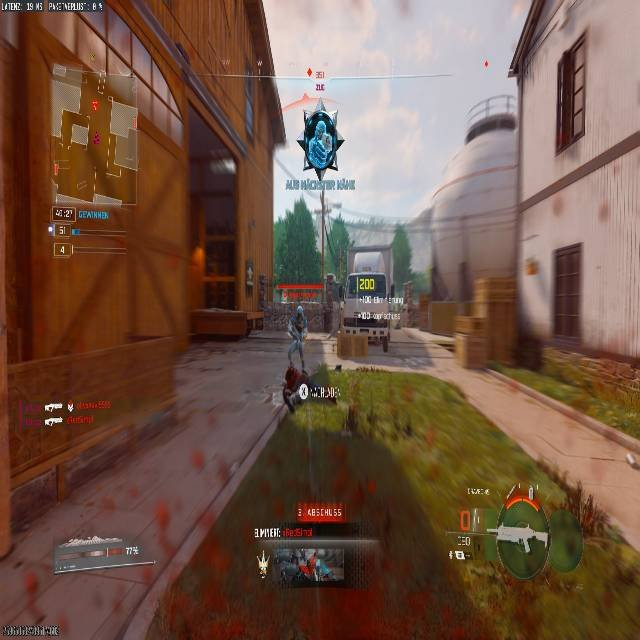head: (293, 307, 302, 318), (296, 310, 304, 319)
player: (298, 108, 342, 179), (286, 310, 308, 369)
